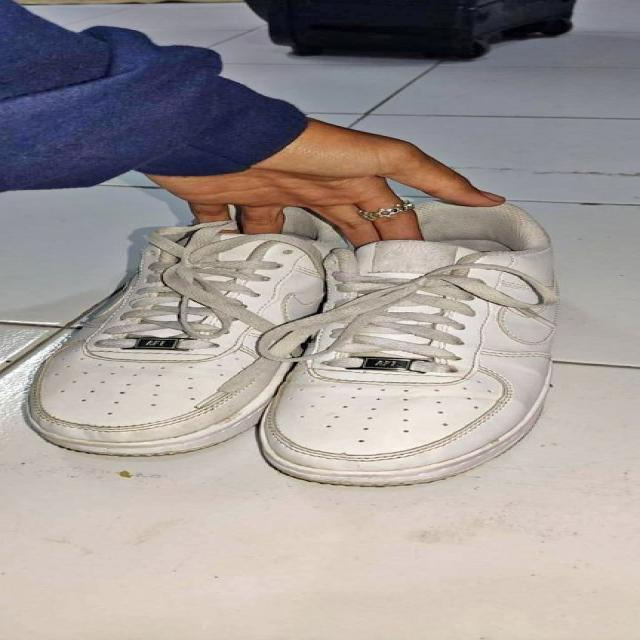nike fake air force: (256, 188, 572, 493), (22, 206, 380, 456)
